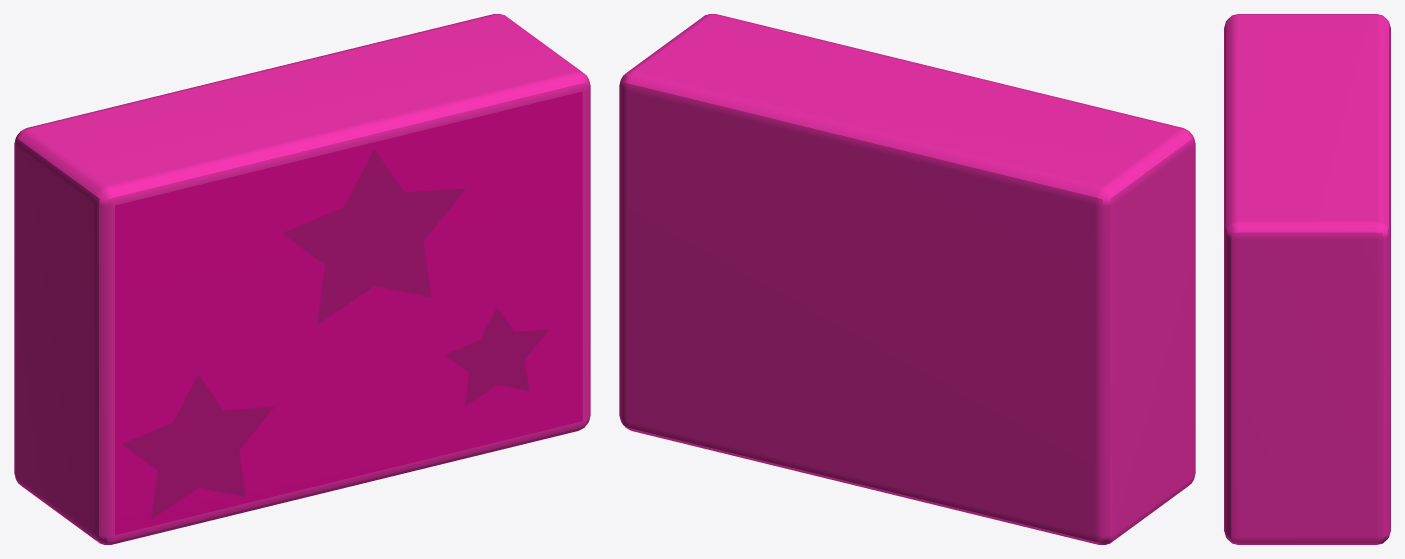
The model's file is Static.fbx.
3 views of the same model, side by side, from view 1: azimuth 30°, elevation 25°; view 2: azimuth 150°, elevation 25°; view 3: azimuth 270°, elevation 25° (orthographic). The views are drawn at different scales.
Parts seen in each view (by area): view 1: TurningPlatform4; view 2: TurningPlatform4; view 3: TurningPlatform4.
Boxes of the visible parts, left/top/right/bottom form: TurningPlatform4: left=14, top=14, right=590, bottom=544; TurningPlatform4: left=619, top=14, right=1195, bottom=544; TurningPlatform4: left=1224, top=14, right=1390, bottom=544.
Bounding box in the file's own units: 12.88 × 8.91 × 4.18.
